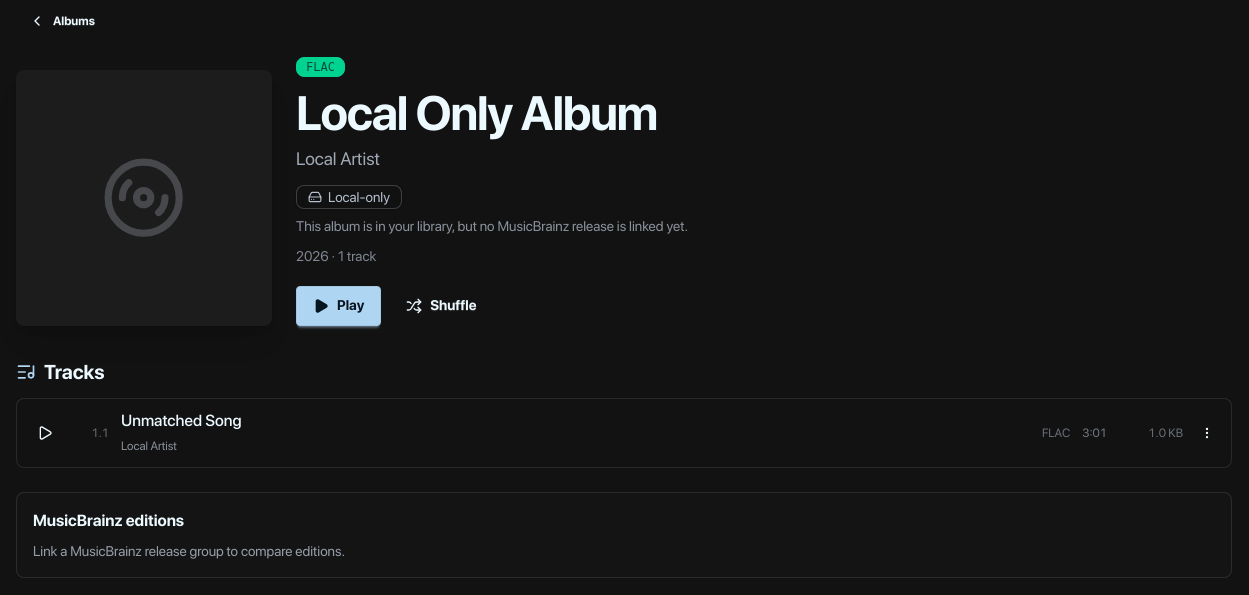
Test: local album page track menu › hides the button and omits the menu Download item when restricted
Check: the text "Unmatched Song" is shown, box [121,411,242,430]
What coordinates should you click on to do the following:
click the heading named "More actions"
I would click on:
 (1207, 433)
Its box is [1195,421,1219,445].
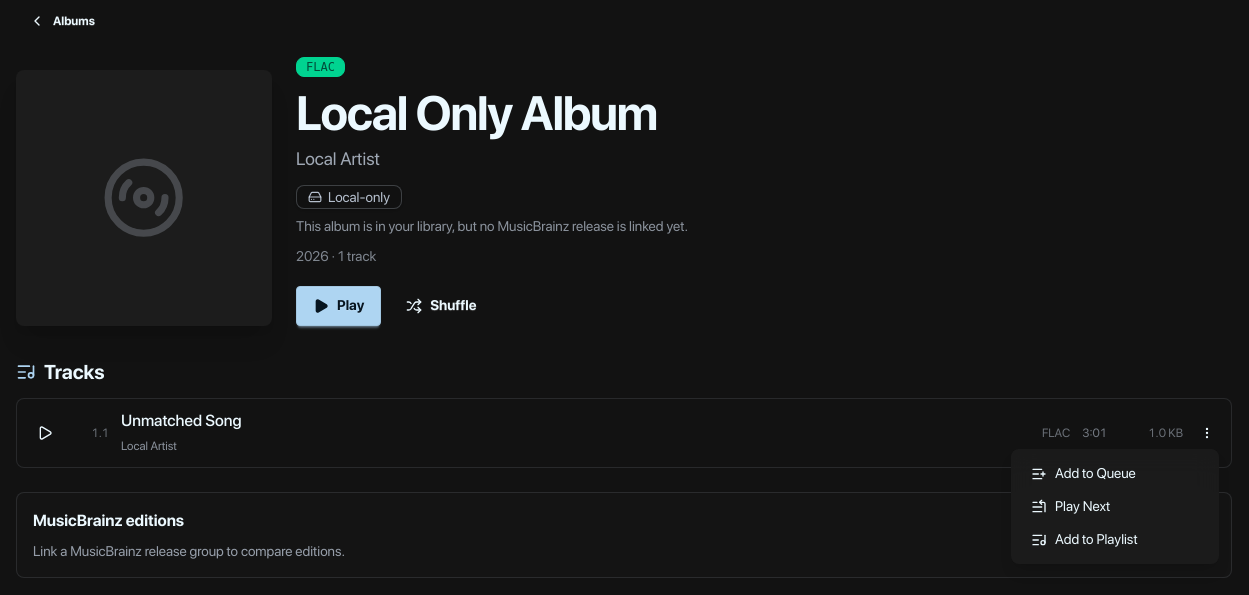
Check: the menu item "Add to Queue" is shown, box [1019,457,1211,490]
